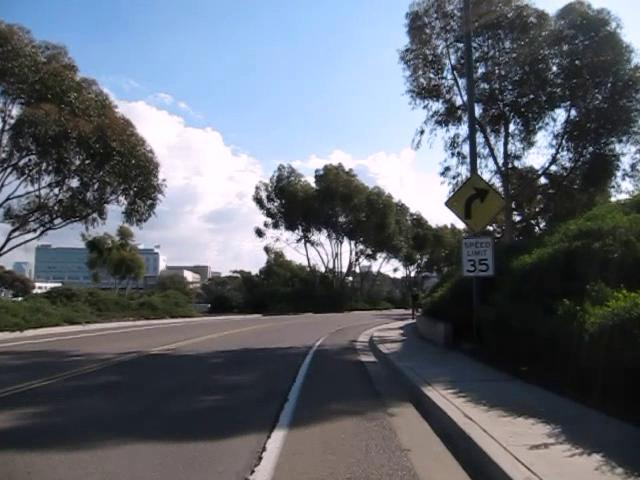speedLimit35: (460, 236, 494, 277)
